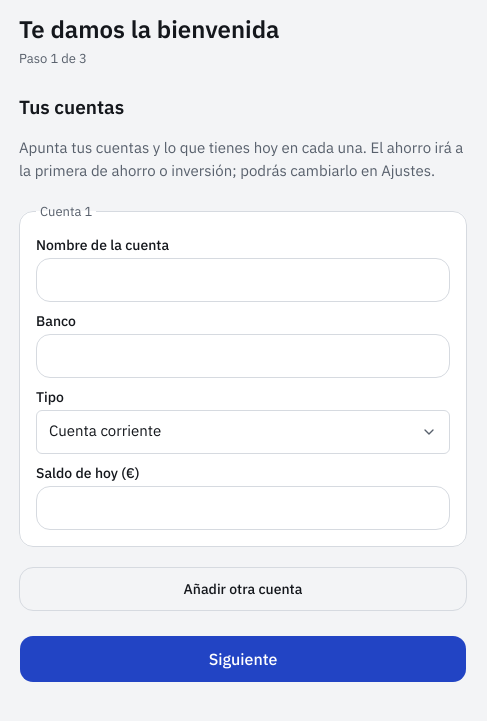
Test: OnboardingWizard › muestra el error del servidor y no navega
The width and height of the screenshot is (487, 721).
Type "BBVA" into the field labelled "Nombre de la cuenta" at (243, 280), box [36,258,450,302]
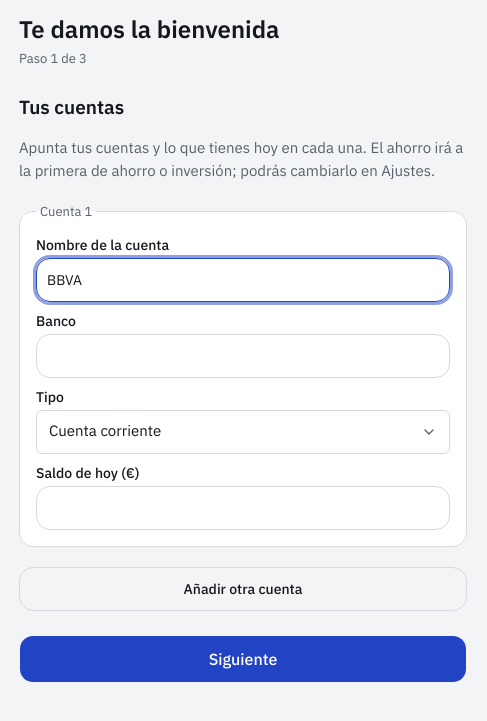
Click the button "Siguiente" at (243, 658), box [19,634,467,682]
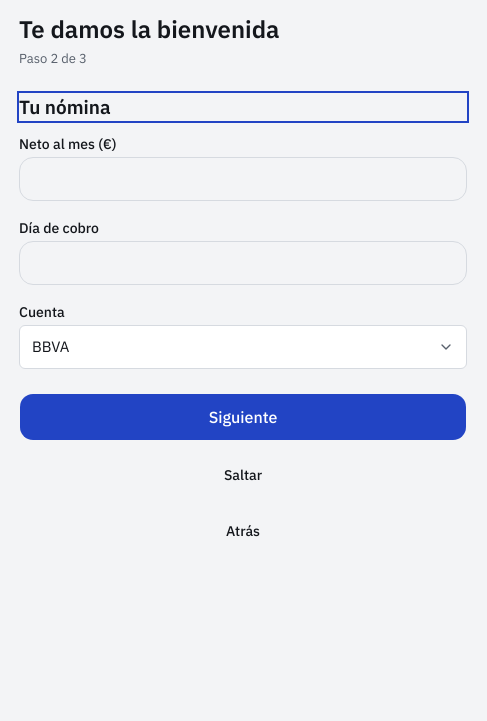
Click the button "Saltar" at (243, 475), box [19,453,467,497]
(page scrolled)
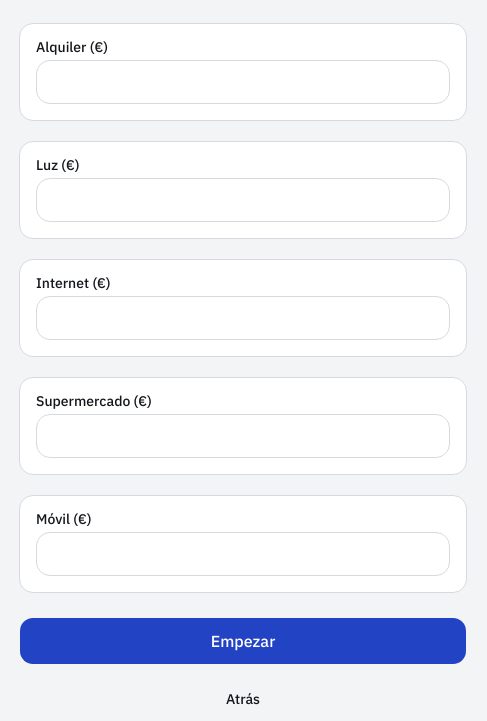
Click the button "Empezar" at (243, 641), box [19,617,467,665]
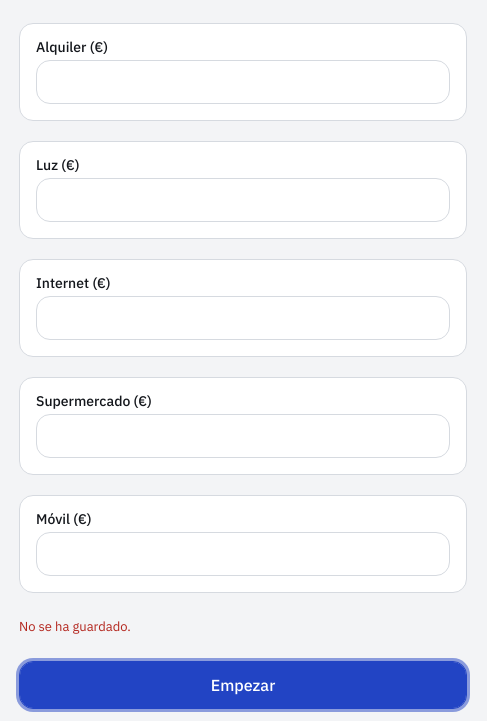
Expected: the message reads "No se ha guardado.", [19,618,131,635]
